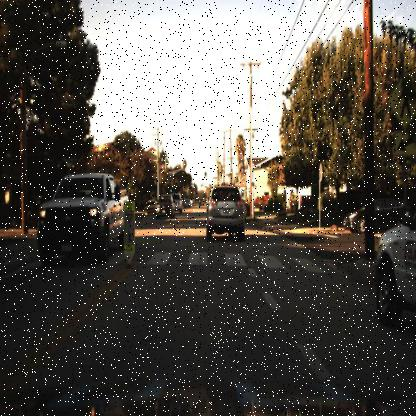car: (37, 172, 130, 272), (369, 193, 416, 335), (343, 192, 408, 234), (203, 178, 247, 240), (343, 197, 408, 234), (155, 193, 174, 221), (172, 190, 184, 216)
